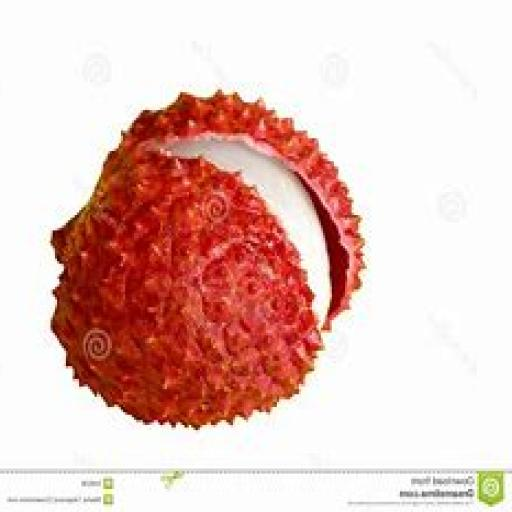lychee: (52, 93, 361, 427)
